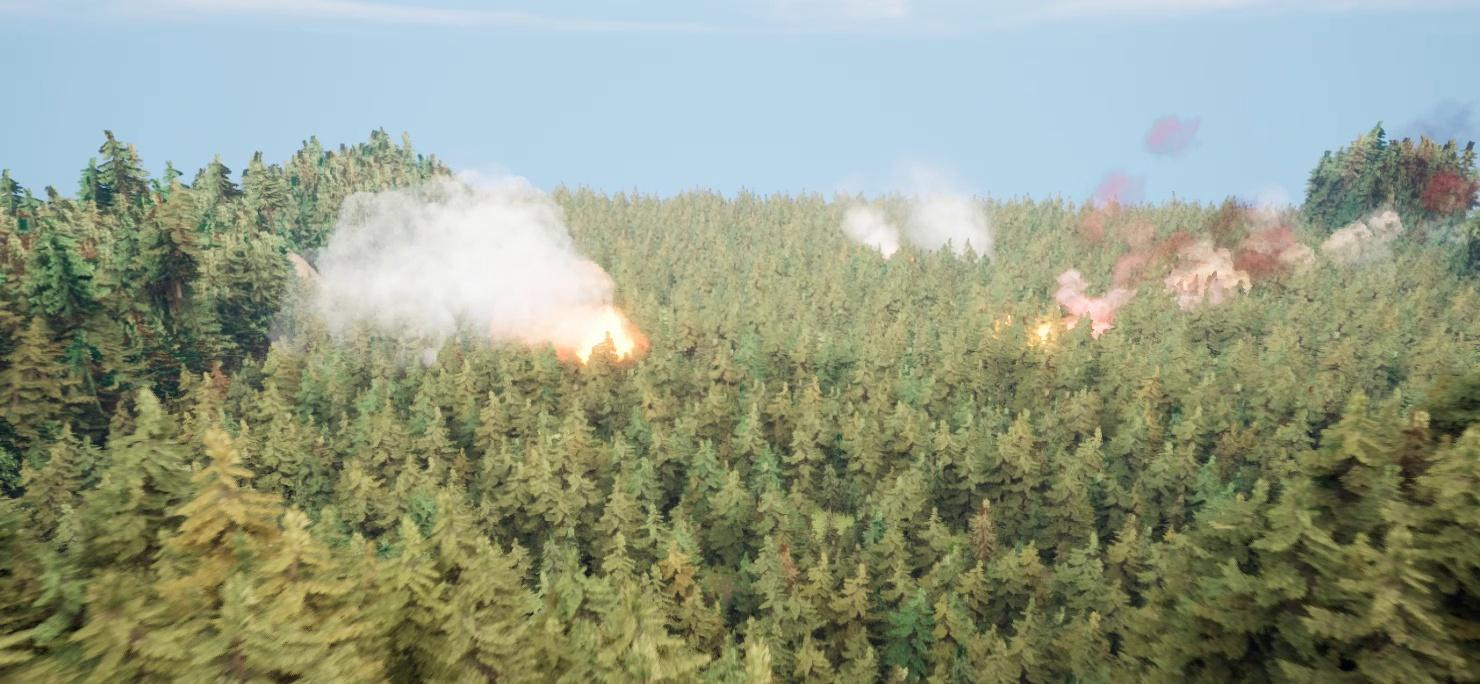fire: (552, 304, 641, 365)
smoke: (1029, 96, 1318, 342), (277, 168, 621, 360), (844, 163, 993, 275)
